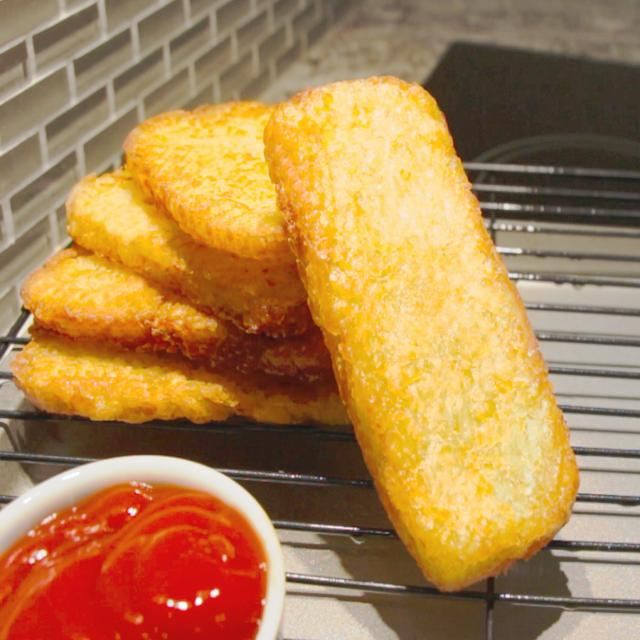Hashbrown: (267, 78, 578, 592), (68, 168, 306, 336), (23, 246, 330, 376), (16, 327, 346, 428), (124, 102, 291, 262)
ketchup: (0, 485, 263, 640)
